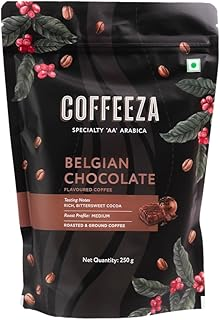Coffee: (2, 3, 220, 320)
